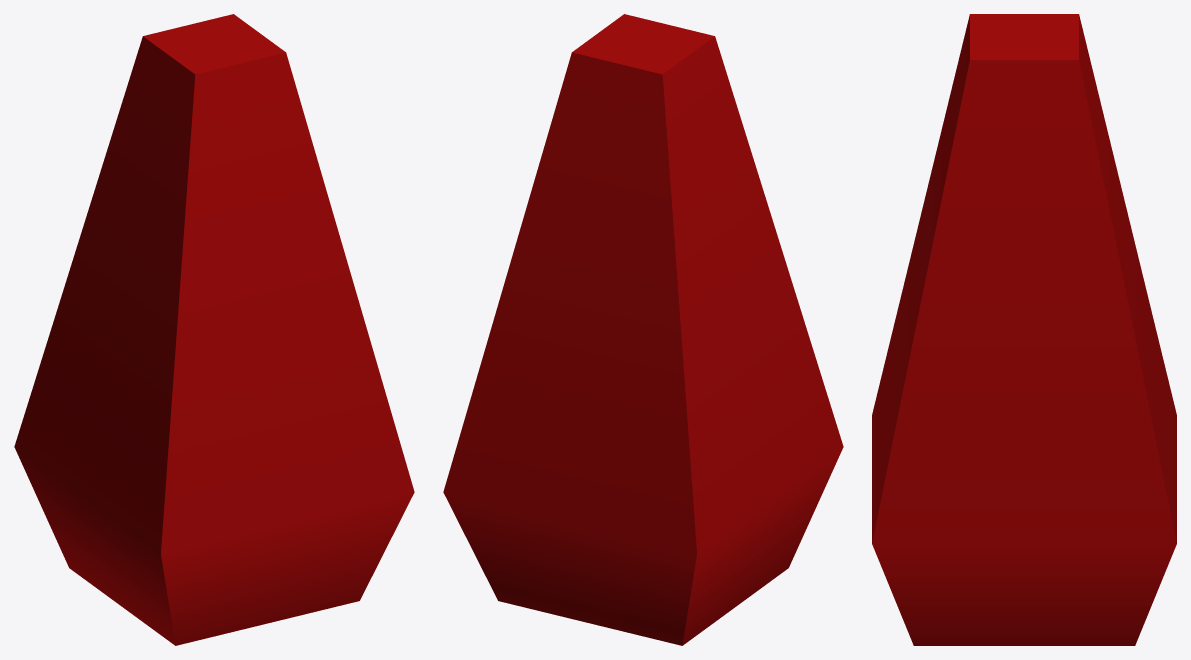
File: SM_Env_Bush_Palm_02_Collision.glb
The picture shows the model from 3 angles, left to right: view 1: azimuth 30°, elevation 25°; view 2: azimuth 150°, elevation 25°; view 3: azimuth 270°, elevation 25°; orthographic projection. The views are drawn at different scales.
Visible parts, largest first — view 1: SM_Env_Bush_Palm_02_Collision; view 2: SM_Env_Bush_Palm_02_Collision; view 3: SM_Env_Bush_Palm_02_Collision.
Part boxes in pixels (<box>): SM_Env_Bush_Palm_02_Collision: <box>14,14,414,645</box>; SM_Env_Bush_Palm_02_Collision: <box>443,14,843,645</box>; SM_Env_Bush_Palm_02_Collision: <box>872,14,1176,645</box>.
Bounding box in the file's own units: 0.5811 × 1.18 × 0.5811.
